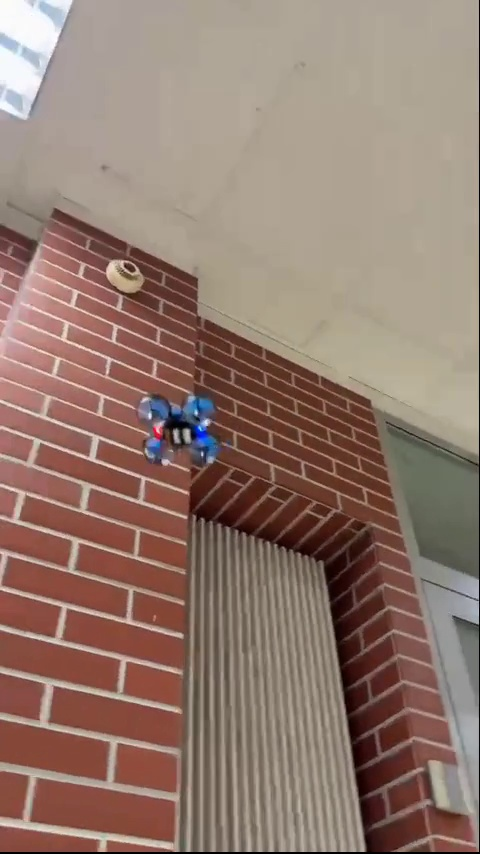drone: (142, 395, 220, 466)
